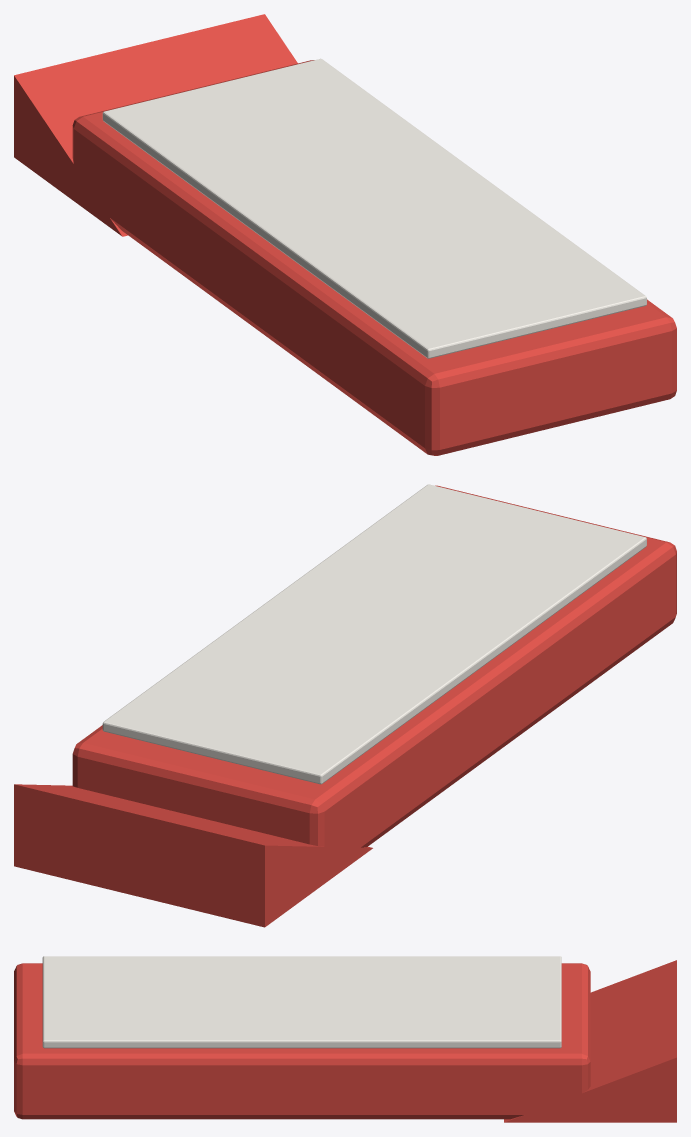
File: Scuba_Boat.fbx
3 views of the same model, one above another, from view 1: azimuth 30°, elevation 25°; view 2: azimuth 150°, elevation 25°; view 3: azimuth 270°, elevation 25° (orthographic). The views are drawn at different scales.
Parts seen in each view (by area): view 1: Boat; view 2: Boat; view 3: Boat.
Part boxes in pixels (<box>): Boat: <box>14,14,676,455</box>; Boat: <box>14,484,676,927</box>; Boat: <box>14,956,676,1122</box>.
Size of the model in its own units: 1.6 by 0.58 by 4.6.
